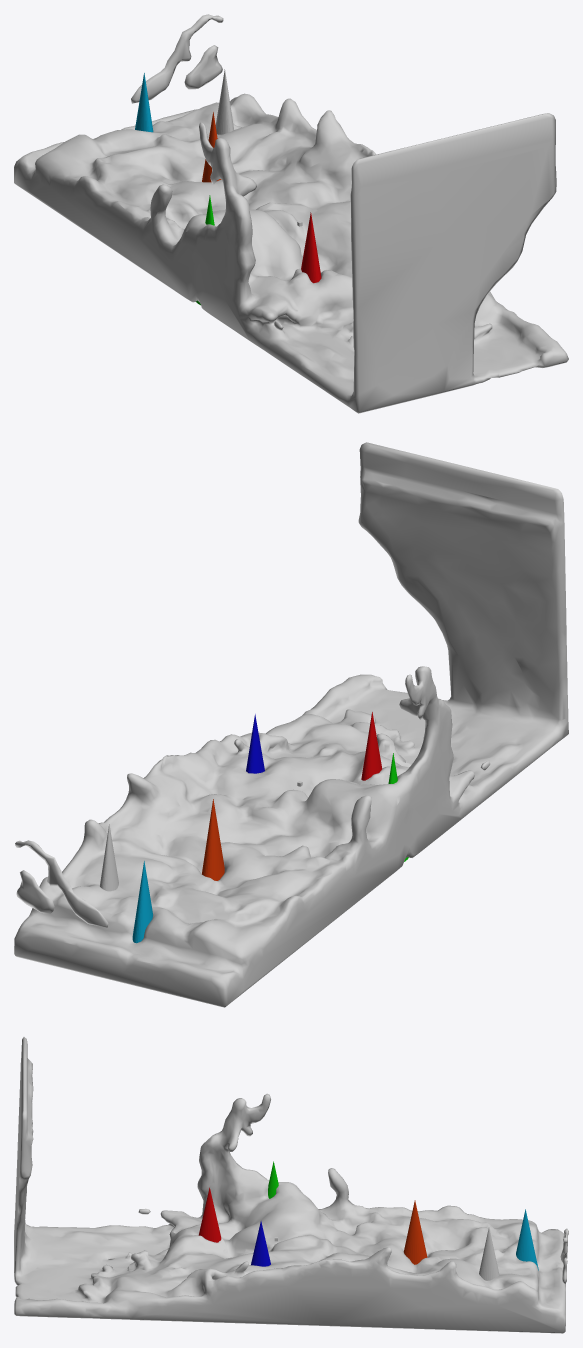
3 renders of one model, top to bottom at view 1: azimuth 30°, elevation 25°; view 2: azimuth 150°, elevation 25°; view 3: azimuth 270°, elevation 25°, orthographic. The views are drawn at different scales.
Visible parts, largest first — view 1: Liquid_Domain, 円錐.001, 円錐, 円錐.005; view 2: Liquid_Domain, 円錐.004, 円錐.005, 円錐.001, 円錐; view 3: Liquid_Domain, 円錐.004, 円錐.001, 円錐.005, 円錐, 円錐.002.
Boxes of the visible parts, left/top/right/bottom form: Liquid_Domain: left=14, top=14, right=568, bottom=413; 円錐.001: left=301, top=212, right=321, bottom=283; 円錐: left=215, top=69, right=233, bottom=134; 円錐.005: left=135, top=73, right=153, bottom=132; Liquid_Domain: left=14, top=442, right=568, bottom=1007; 円錐.004: left=202, top=799, right=224, bottom=880; 円錐.005: left=132, top=861, right=152, bottom=943; 円錐.001: left=361, top=712, right=382, bottom=780; 円錐: left=100, top=824, right=118, bottom=891; Liquid_Domain: left=14, top=1037, right=568, bottom=1333; 円錐.004: left=403, top=1200, right=427, bottom=1264; 円錐.001: left=198, top=1187, right=221, bottom=1242; 円錐.005: left=516, top=1209, right=538, bottom=1270; 円錐: left=479, top=1227, right=499, bottom=1280; 円錐.002: left=251, top=1221, right=270, bottom=1266.
Bounding box in the file's own units: 129 × 158 × 363.
